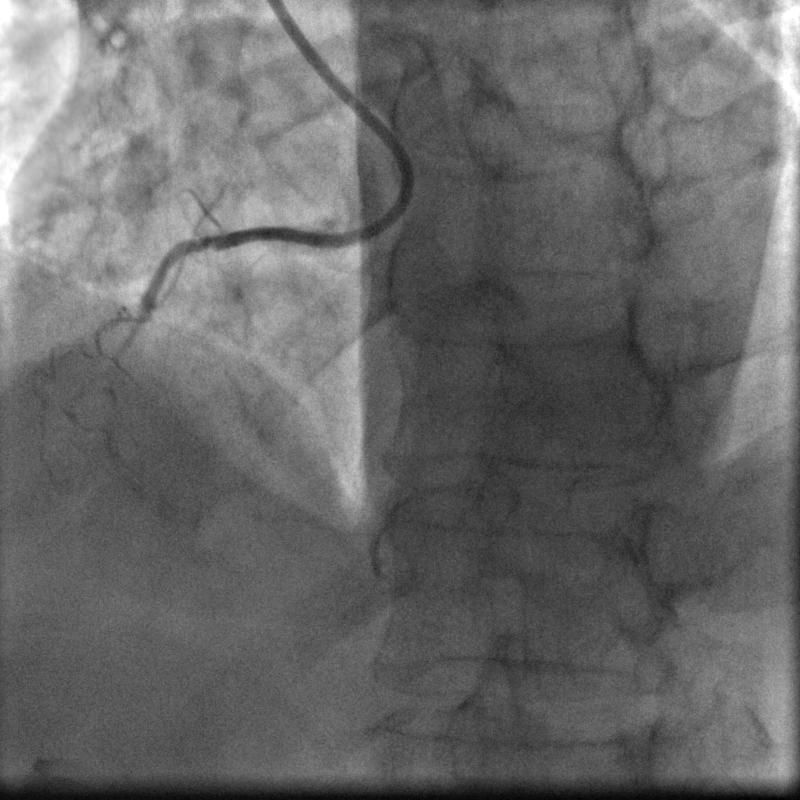Stenosis: (130, 293, 148, 356)
